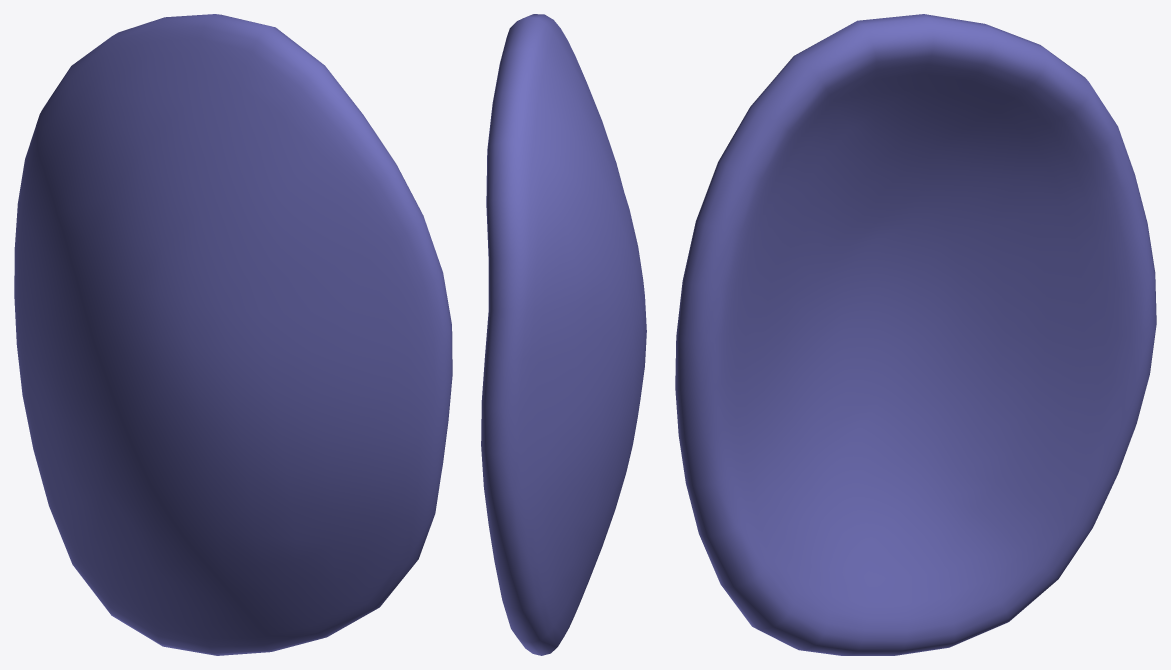
The model's file is BL4_Enamel_Diamond.001.glb.
The picture shows the model from 3 angles, left to right: view 1: azimuth 30°, elevation 25°; view 2: azimuth 150°, elevation 25°; view 3: azimuth 270°, elevation 25°; orthographic projection. The views are drawn at different scales.
Parts seen in each view (by area): view 1: BL4_Enamel_Diamond.001; view 2: BL4_Enamel_Diamond.001; view 3: BL4_Enamel_Diamond.001.
Part boxes in pixels (x1,y1,x2,y2): BL4_Enamel_Diamond.001: (14,14,452,655); BL4_Enamel_Diamond.001: (481,14,646,655); BL4_Enamel_Diamond.001: (675,14,1156,655).
Bounding box in the file's own units: 0.3467 × 0.8627 × 0.5764.
